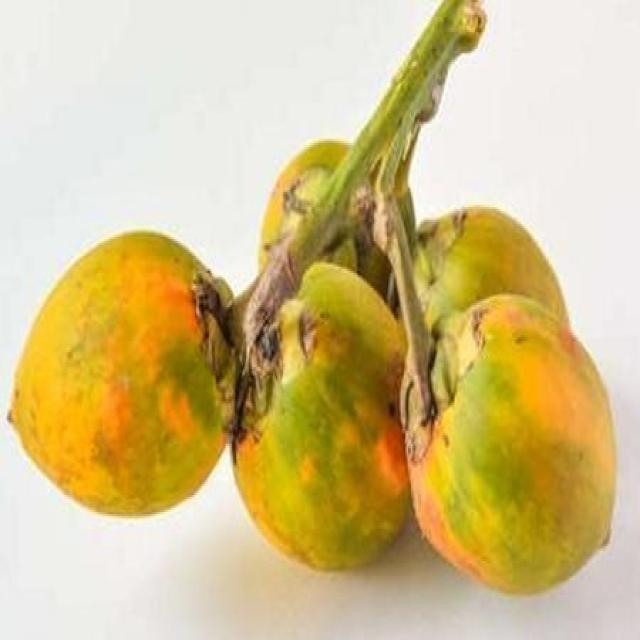good: (226, 0, 619, 599), (7, 230, 235, 521), (232, 262, 411, 576)
